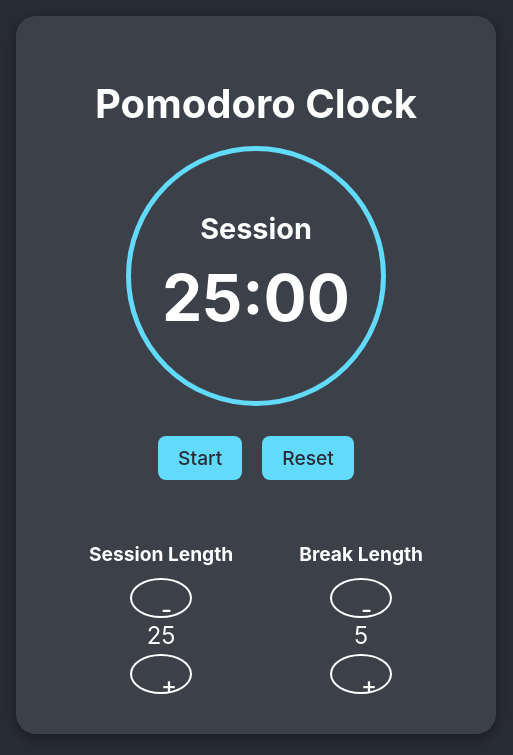
Scenario: Pomodoro App › resets the timer to its default state
The width and height of the screenshot is (513, 755).
Find the + button for the session and click it to change the state
Step 1. Click the button "+" below "Session Length" → (161, 674), box [130,654,192,694]
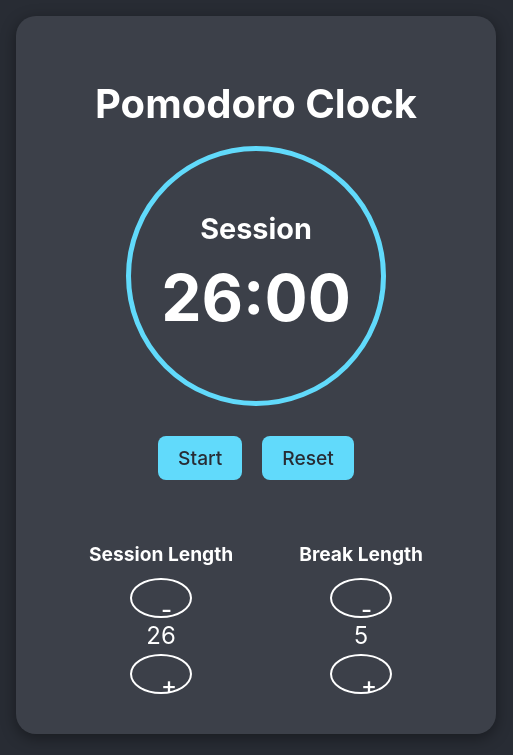
Now the text "26:00" is shown, box [161,250,351,346]
Now, find and click the reset button
Step 2. Click the button "Reset" → (308, 458), box [262,436,354,480]
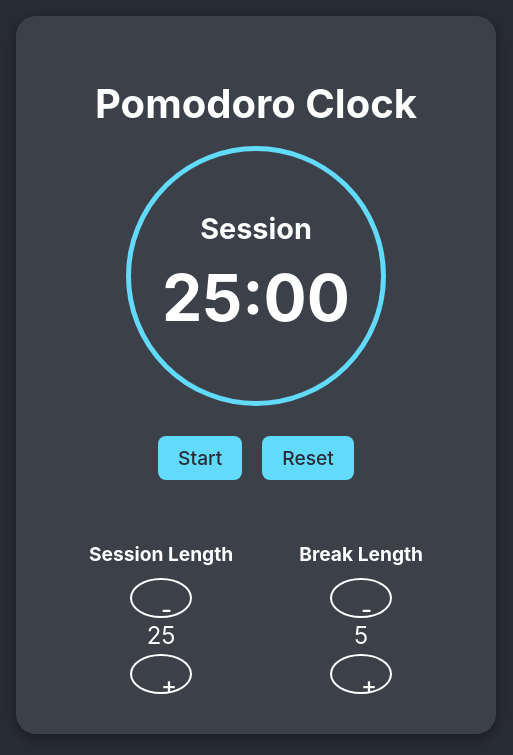
Expected: the heading "Session" is shown, [200,207,312,250]
Now the text "25:00" is shown, box [162,250,350,346]
Now the text "25" is shown, box [147,621,176,650]
